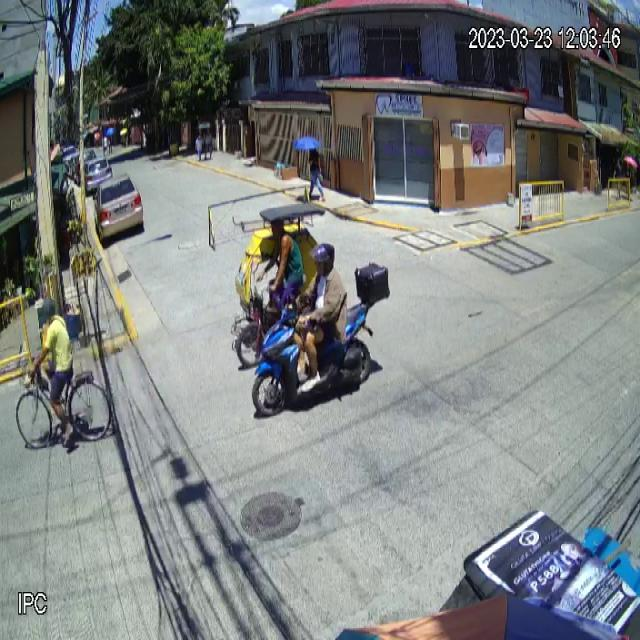Car: (92, 173, 144, 243)
Motorcycle: (252, 260, 390, 416)
